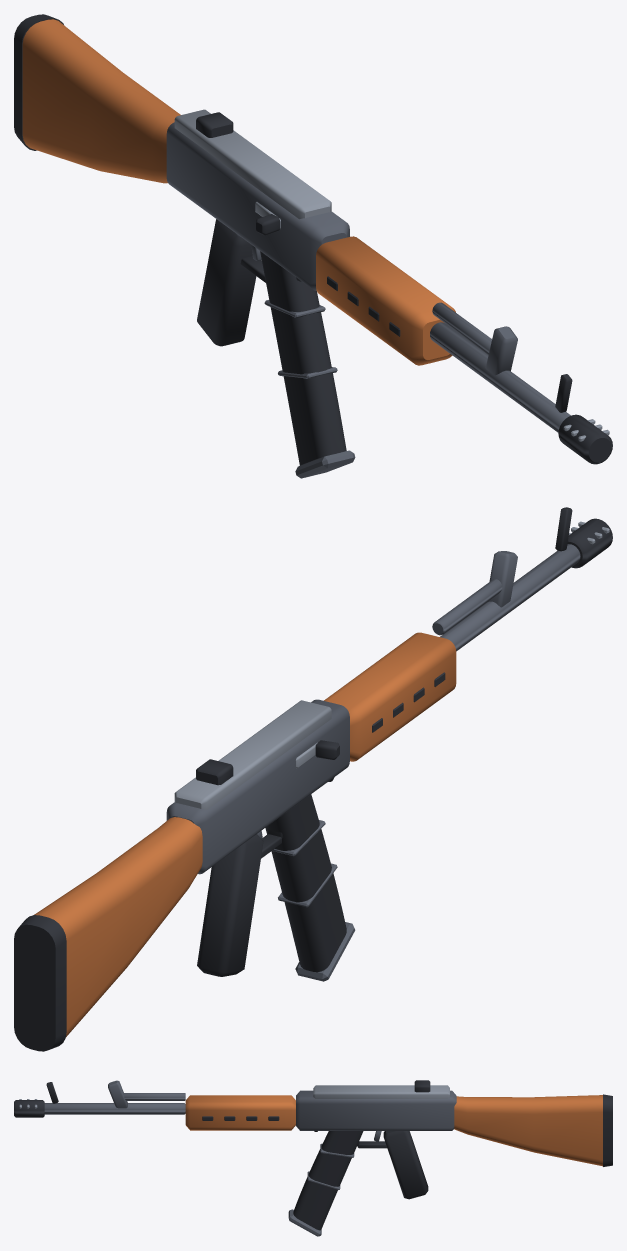
File: fusil.glb
3 renders of one model, top to bottom at view 1: azimuth 30°, elevation 25°; view 2: azimuth 150°, elevation 25°; view 3: azimuth 270°, elevation 25°, orthographic. The views are drawn at different scales.
Visible parts, largest first — view 1: corps, chargeur; view 2: corps, chargeur; view 3: corps, chargeur.
Part boxes in pixels (x1,y1,x2,y2): corps: [14, 14, 612, 464]; chargeur: [260, 251, 355, 478]; corps: [14, 507, 612, 1051]; chargeur: [265, 794, 355, 981]; corps: [14, 1080, 612, 1199]; chargeur: [288, 1131, 363, 1236].
Size of the model in its own units: 0.0655 by 0.2815 by 1.01.
